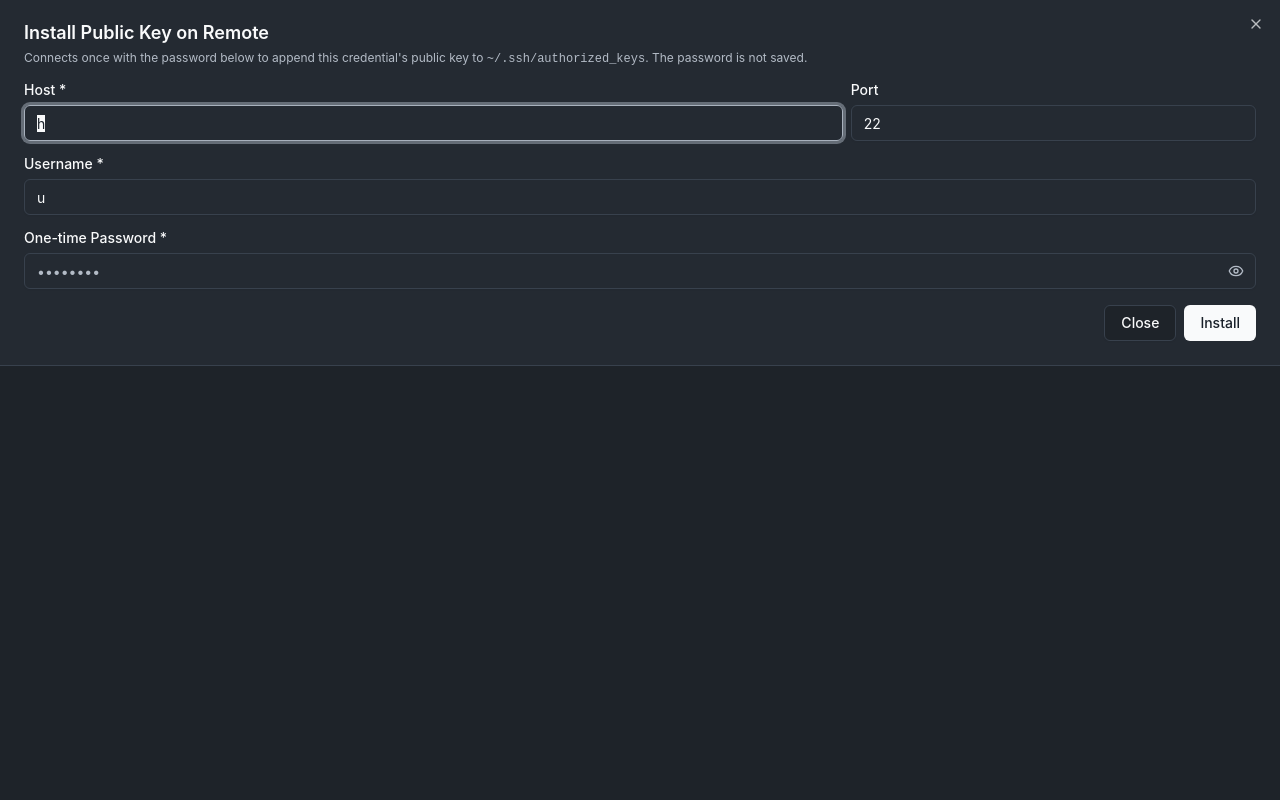
Scenario: InstallKeyDialog › renders success in role=status with aria-live=polite and does NOT auto-close
This screenshot has width=1280, height=800.
Type "x" into the password field labelled "One-time Password *" at x=640, y=271, box [24, 253, 1256, 289]
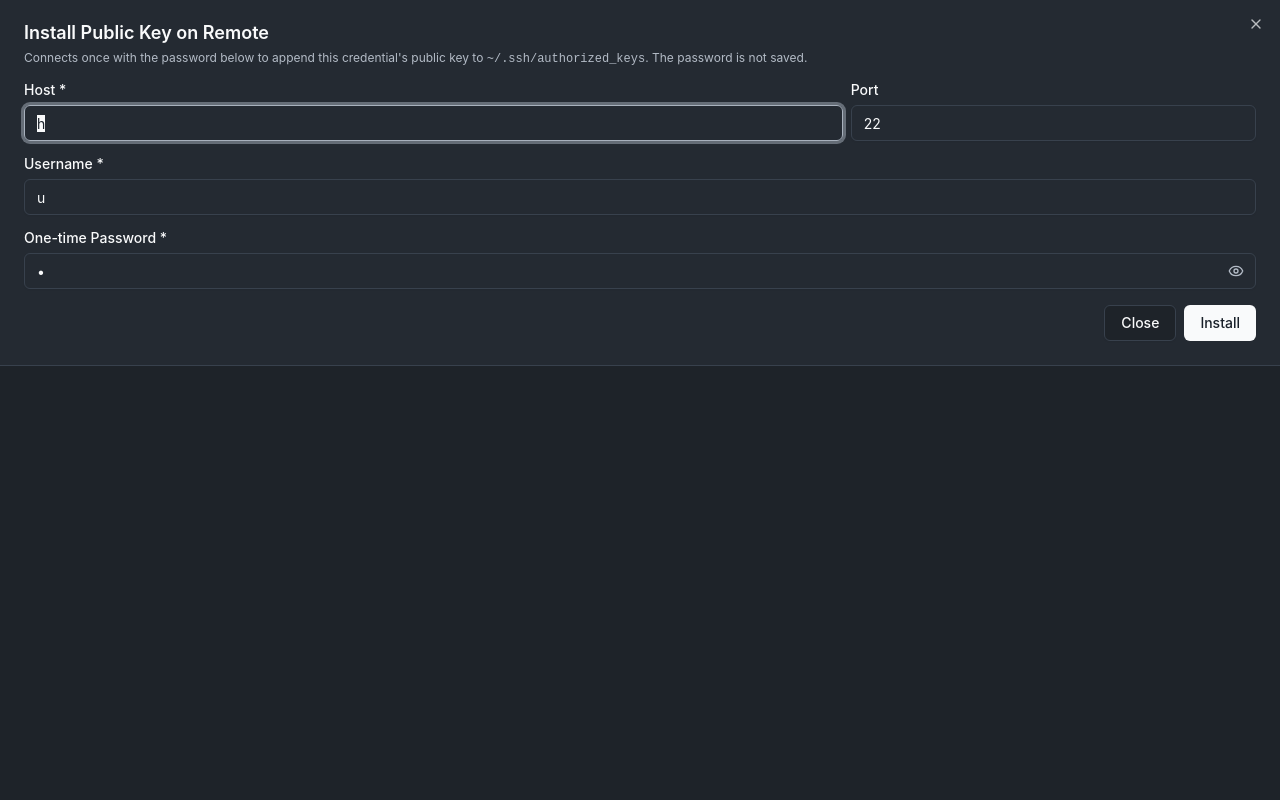
Click the button "Install" at x=1220, y=323, box [1184, 305, 1256, 341]
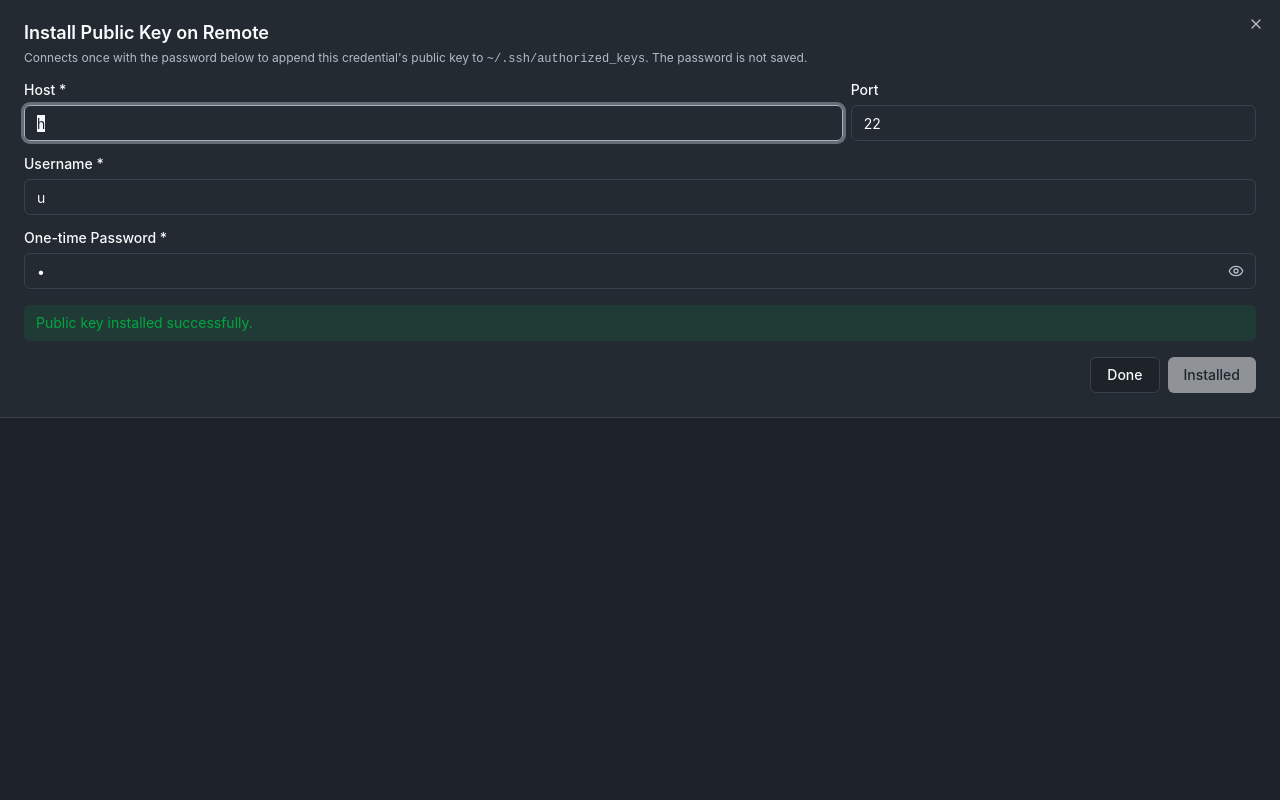
Check: the message shows "installed successfully", box [36, 314, 253, 331]
Check: the button "Done" is shown, box [1090, 357, 1160, 393]
